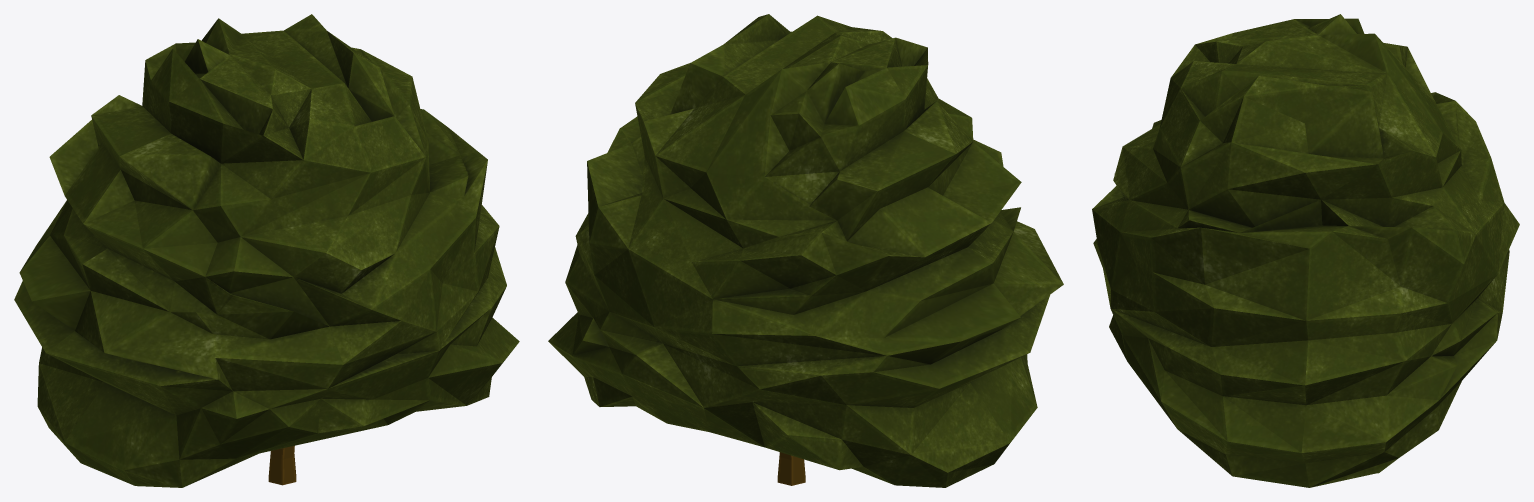
The model's file is sycamore-tree.glb.
3 views of the same model, side by side, from view 1: azimuth 30°, elevation 25°; view 2: azimuth 150°, elevation 25°; view 3: azimuth 270°, elevation 25° (orthographic). The views are drawn at different scales.
Visible parts, largest first — view 1: node-0; view 2: node-0; view 3: node-0.
Part boxes in pixels (left/top/right/bottom): node-0: left=14, top=14, right=519, bottom=487; node-0: left=548, top=14, right=1063, bottom=487; node-0: left=1092, top=14, right=1519, bottom=487.
Bounding box in the file's own units: 13.93 × 13.07 × 12.1.
1 material, 1 textured.
